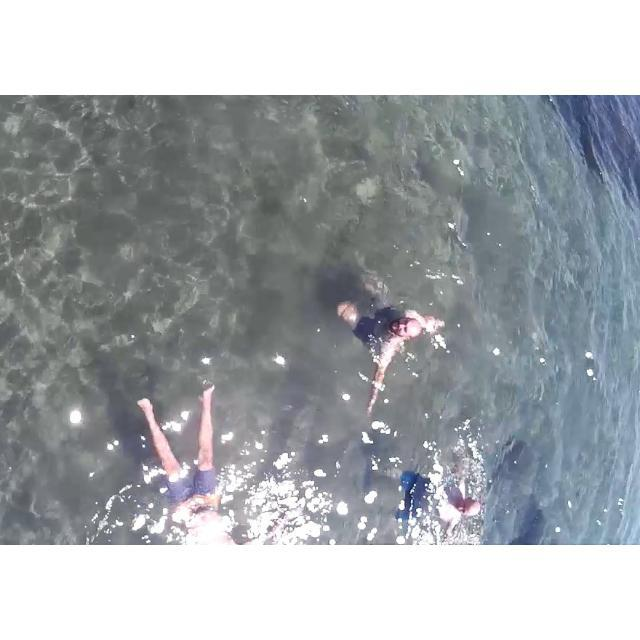human: (322, 279, 469, 406), (397, 456, 490, 535)
